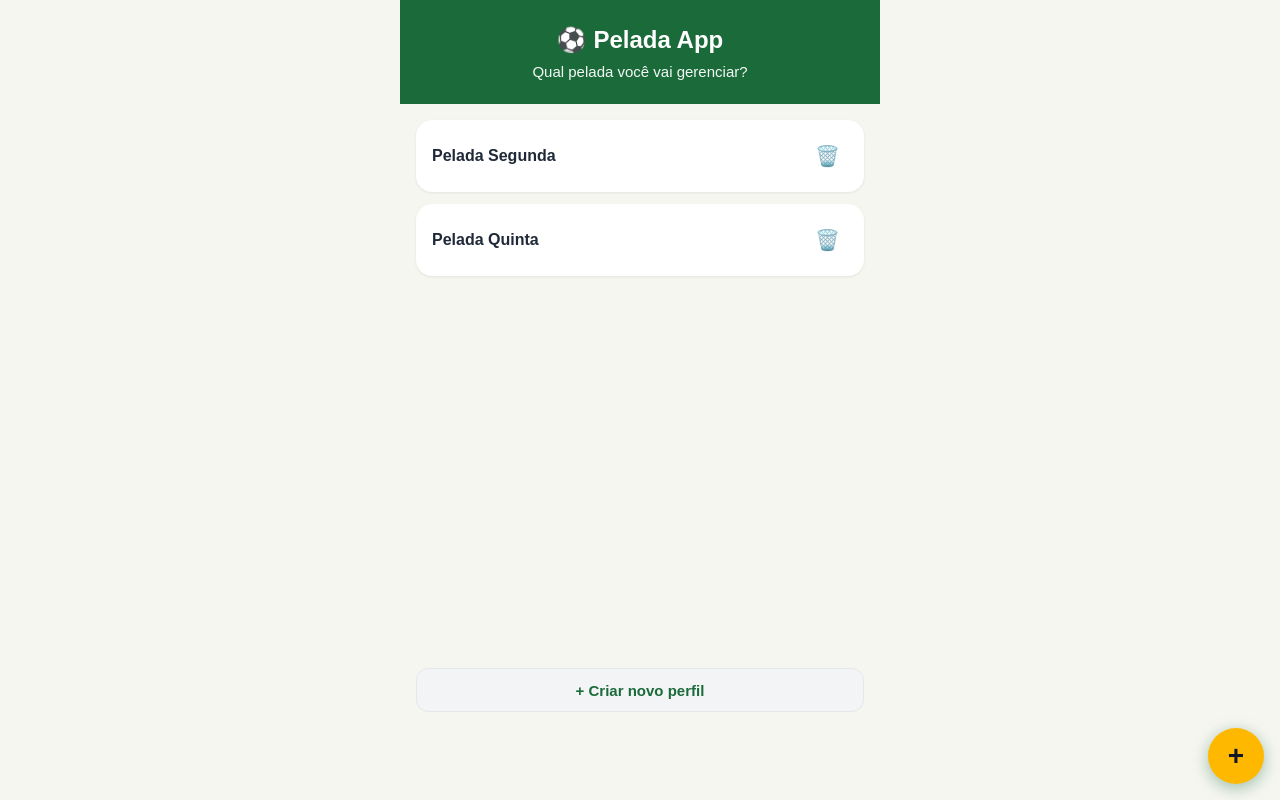
Test: ProfilesScreen › opens create sheet when FAB clicked
This screenshot has width=1280, height=800.
What coordinates should you click on to do the following:
click the button named "Criar novo perfil"
I would click on:
 (1236, 756)
Its box is 1208,728 -> 1264,784.
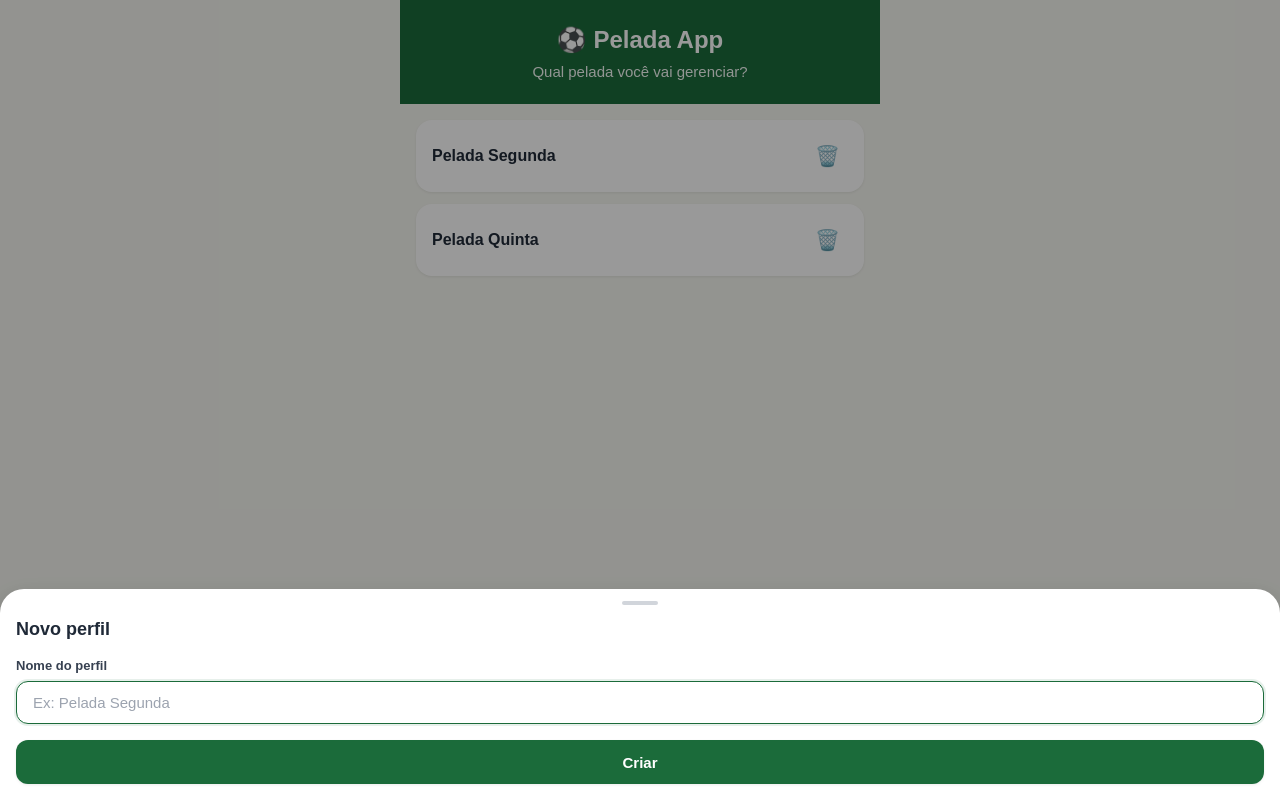
Now the field with placeholder "Ex: Pelada Segunda" is shown, box 16,681 -> 1264,724
